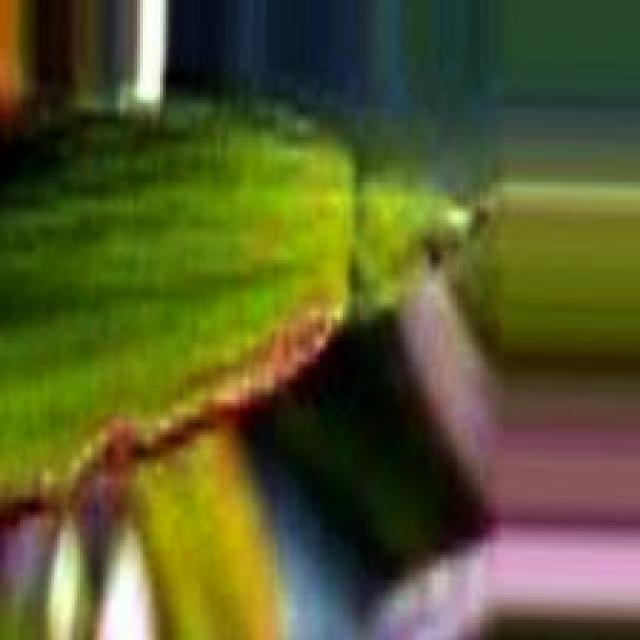Unhealthy: (26, 296, 343, 502)
